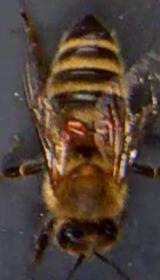varroa_mite: (60, 114, 90, 142)
